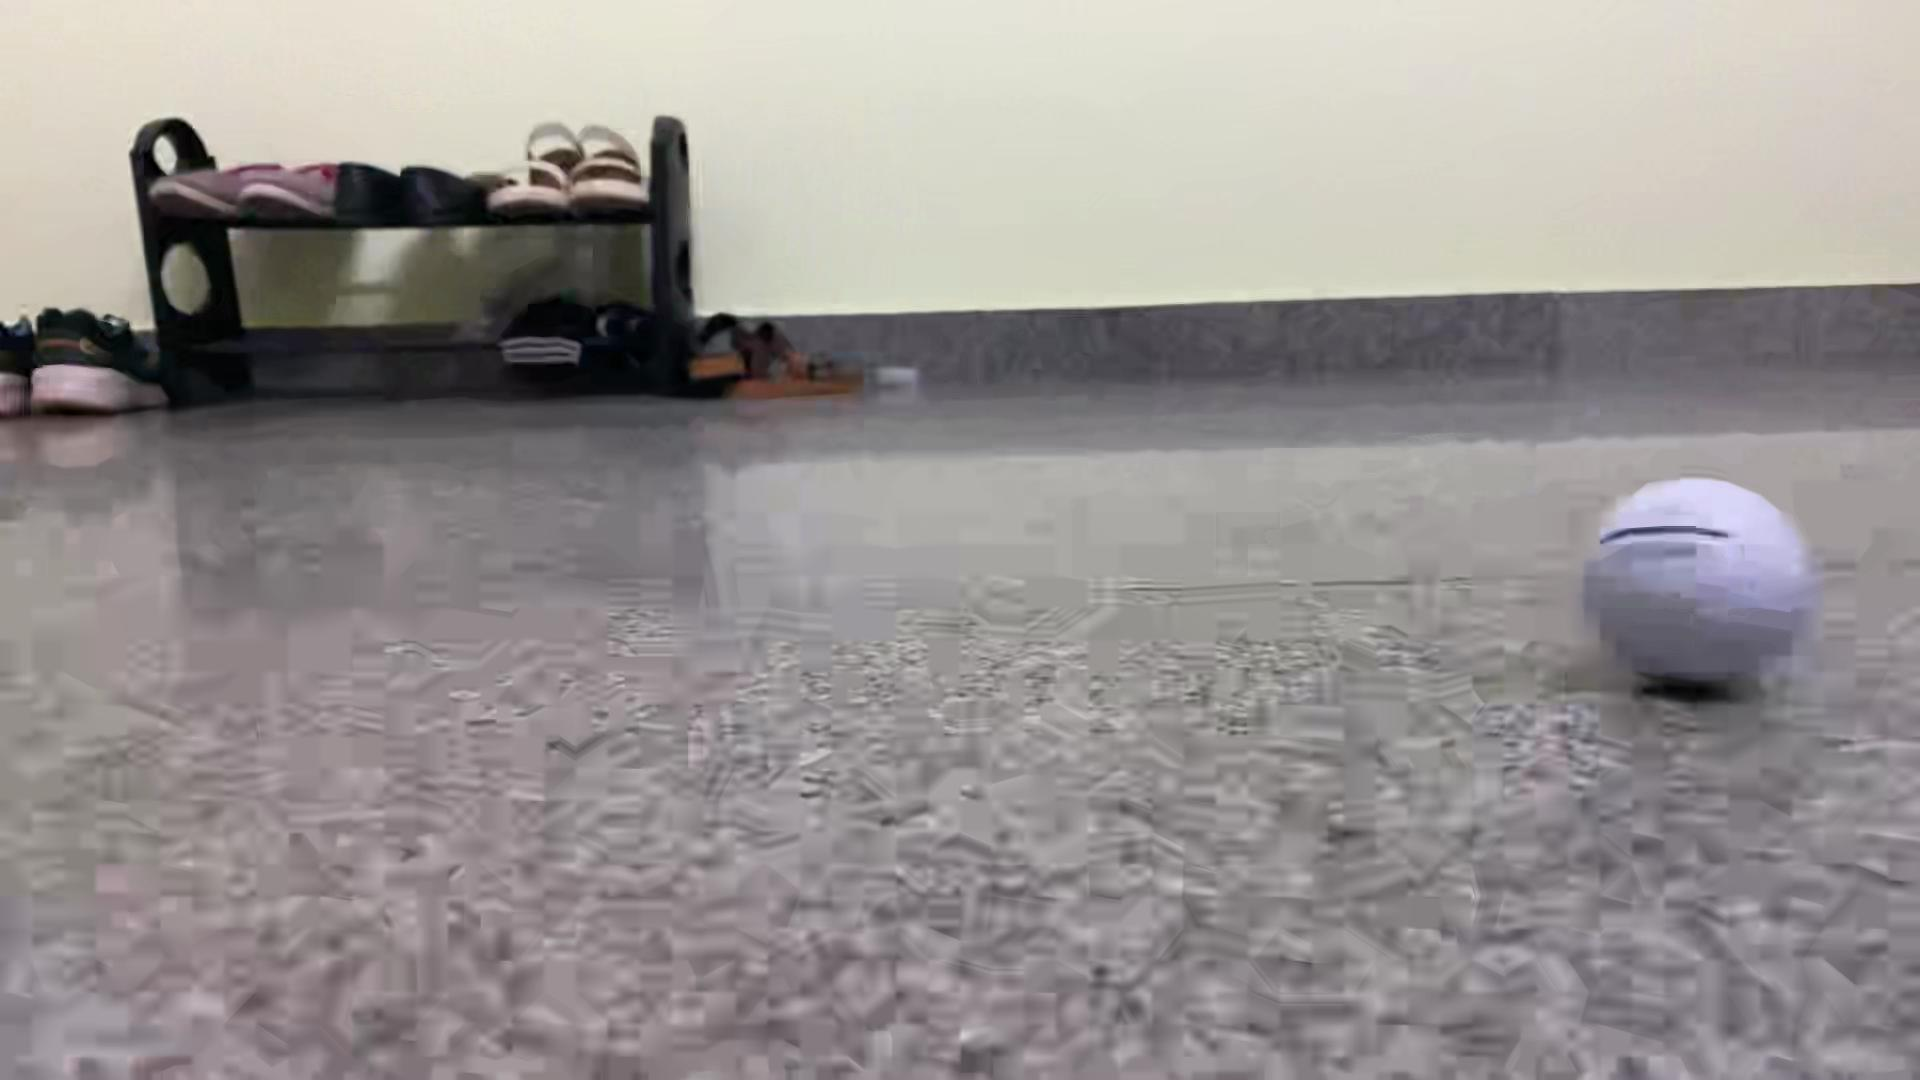golfball: (1582, 475, 1813, 689)
